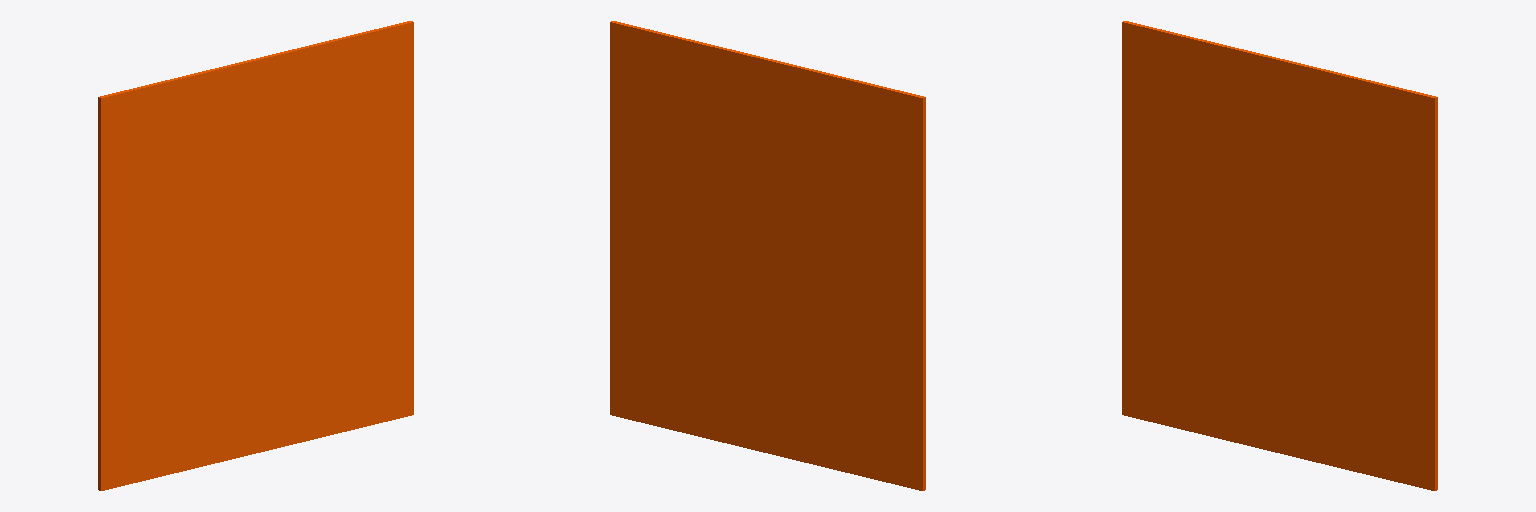
robot.urdf — table:
<?xml version="1.0" ?>
<robot name="table">
   <material name="obj_color">
      <color rgba="1.0 0.423529411765 0.0392156862745 1.0"/>
   </material>
   <link name="top">
      <inertial>
         <origin rpy="0.04406212609055789 0.06344650659262732 0.107495563768904" xyz="-5.674930788308527e-06 1.681521027683326e-07 7.094835055302375e-06"/>
         <mass value="2.610504491413097"/>
         <inertia ixx="0.06344650644053068" ixy="-4.059404022660972e-08" ixz="-1.717272396946483e-06" iyy="0.1074955637688259" iyz="5.075094972133835e-08" izz="0.04406212624273256"/>
      </inertial>
      <visual>
         <origin rpy="0 0 0" xyz="0 0 0"/>
         <geometry>
            <mesh filename="top_watertight_tiny.stl" scale="1 1 1"/>
         </geometry>
         <material name="obj_color"/>
      </visual>
      <collision>
         <origin rpy="0 0 0" xyz="0 0 0"/>
         <geometry>
            <mesh filename="top_watertight_tiny.obj" scale="1 1 1"/>
         </geometry>
      </collision>
   </link>
   <link name="bottom">
      <inertial>
         <origin rpy="1.633333333194242e-08 1.633333333194243e-08 1.633333333357667e-08" xyz="0.3464080000000008 0.3464080000000008 0.3464080000000008"/>
         <mass value="0.0009800000000000017"/>
         <inertia ixx="1.633333333248717e-08" ixy="5.447480642029219e-19" ixz="5.447480642029219e-19" iyy="1.633333333248717e-08" iyz="5.447480642029219e-19" izz="1.633333333248717e-08"/>
      </inertial>
      <visual>
         <origin rpy="0 0 0" xyz="0 0 0"/>
         <geometry>
            <mesh filename="bottom_watertight_tiny.stl" scale="1 1 1"/>
         </geometry>
         <material name="obj_color"/>
      </visual>
   </link>
   <joint name="rotation" type="revolute">
      <origin xyz="0 0 0"/>
      <axis xyz="0 0 -1"/>
      <parent link="bottom"/>
      <child link="top"/>
      <dynamics damping="1.0" friction="1.0"/>
      <limit effort="0.1" velocity="0.1" lower="0" upper="0.001"/>
   </joint>
</robot>

--- Facts derived from the render (not from the file) ---
3 views of the same robot in one strip: view 1: azimuth 30°, elevation 25°; view 2: azimuth 150°, elevation 25°; view 3: azimuth 330°, elevation 25° (orthographic).
Robot: table — 2 links, 1 joints (1 revolute); root link bottom; default pose: all joints at 0.
Visible links, largest first — view 1: top; view 2: top; view 3: top.
Link boxes in pixels (left/top/right/bottom): top: left=98, top=21, right=413, bottom=490; top: left=610, top=21, right=925, bottom=490; top: left=1122, top=21, right=1437, bottom=490.
Bounding box of the posed robot: 0.45 × 0.0055 × 0.54 m (x, y, z).
1 mesh visuals loaded from 2 distinct referenced files (1 binary STL); not drawn: 1 (reference not matched to a file when rendering).
